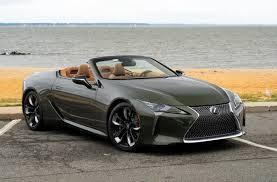lexus: (205, 105, 223, 116)
